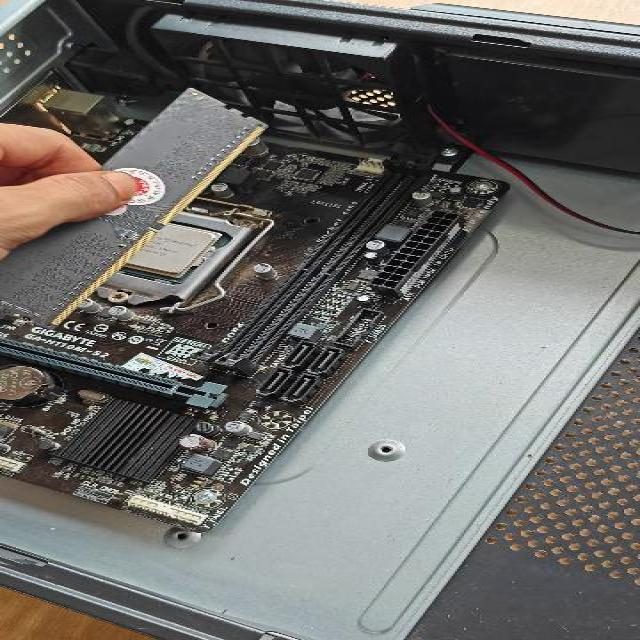CPU: (116, 222, 218, 280)
Mainboard: (0, 89, 512, 535)
RAM: (0, 81, 272, 327)
